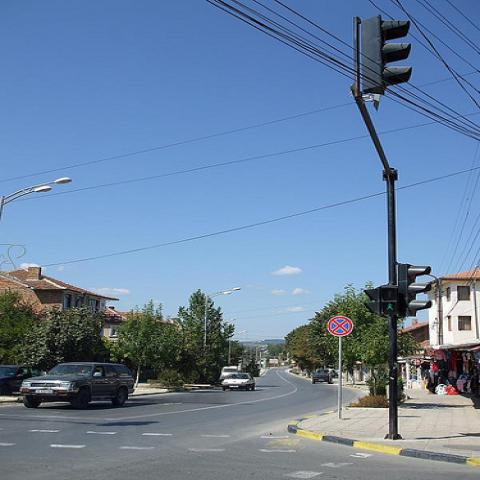car: (0, 364, 38, 396), (221, 374, 256, 387), (312, 372, 331, 384)
truck: (17, 363, 136, 409), (219, 365, 238, 384)
